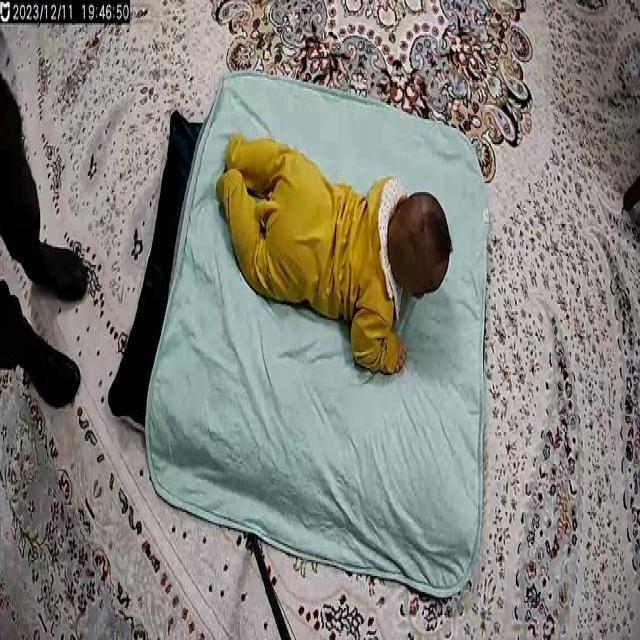baby: (212, 124, 456, 382)
